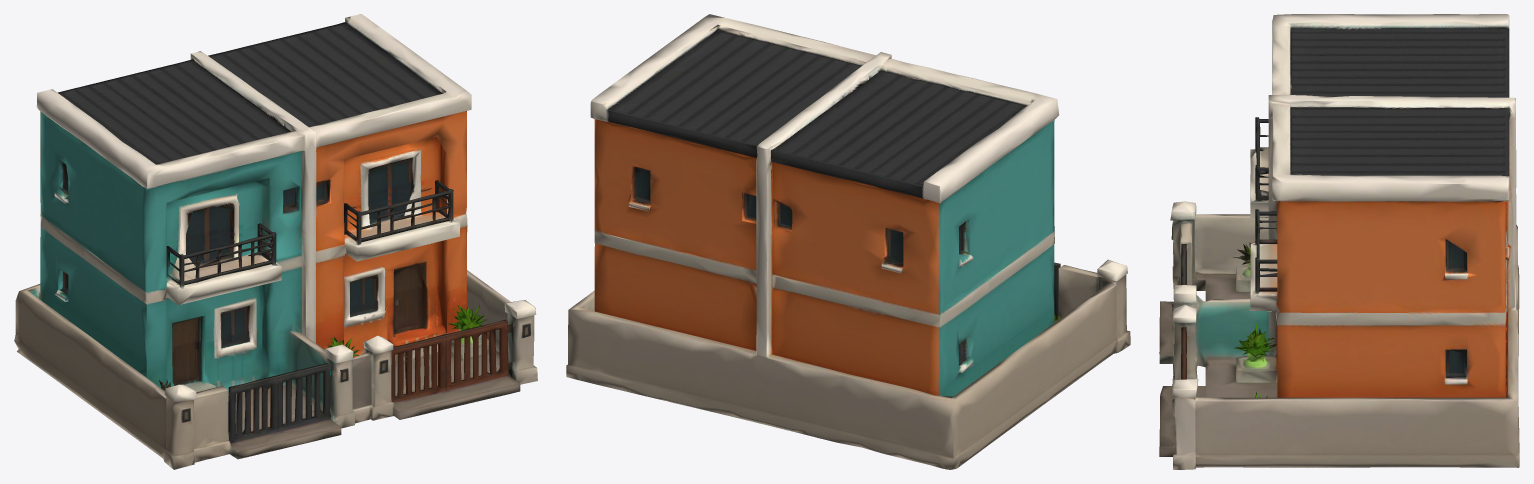
File: new-duplex-house.fbx
The picture shows the model from 3 angles, left to right: view 1: azimuth 30°, elevation 25°; view 2: azimuth 150°, elevation 25°; view 3: azimuth 270°, elevation 25°; orthographic projection. The views are drawn at different scales.
Parts seen in each view (by area): view 1: tripo_node_146a1edf; view 2: tripo_node_146a1edf; view 3: tripo_node_146a1edf.
Boxes of the visible parts, left/top/right/bottom form: tripo_node_146a1edf: left=14, top=14, right=537, bottom=469; tripo_node_146a1edf: left=566, top=14, right=1130, bottom=469; tripo_node_146a1edf: left=1159, top=14, right=1519, bottom=469.
Size of the model in its own units: 1 by 0.6805 by 0.8015.
